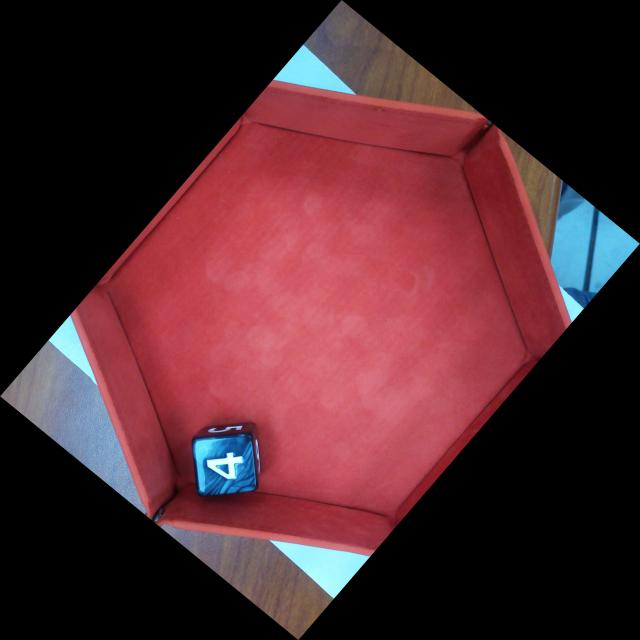dice: (192, 434, 258, 496)
